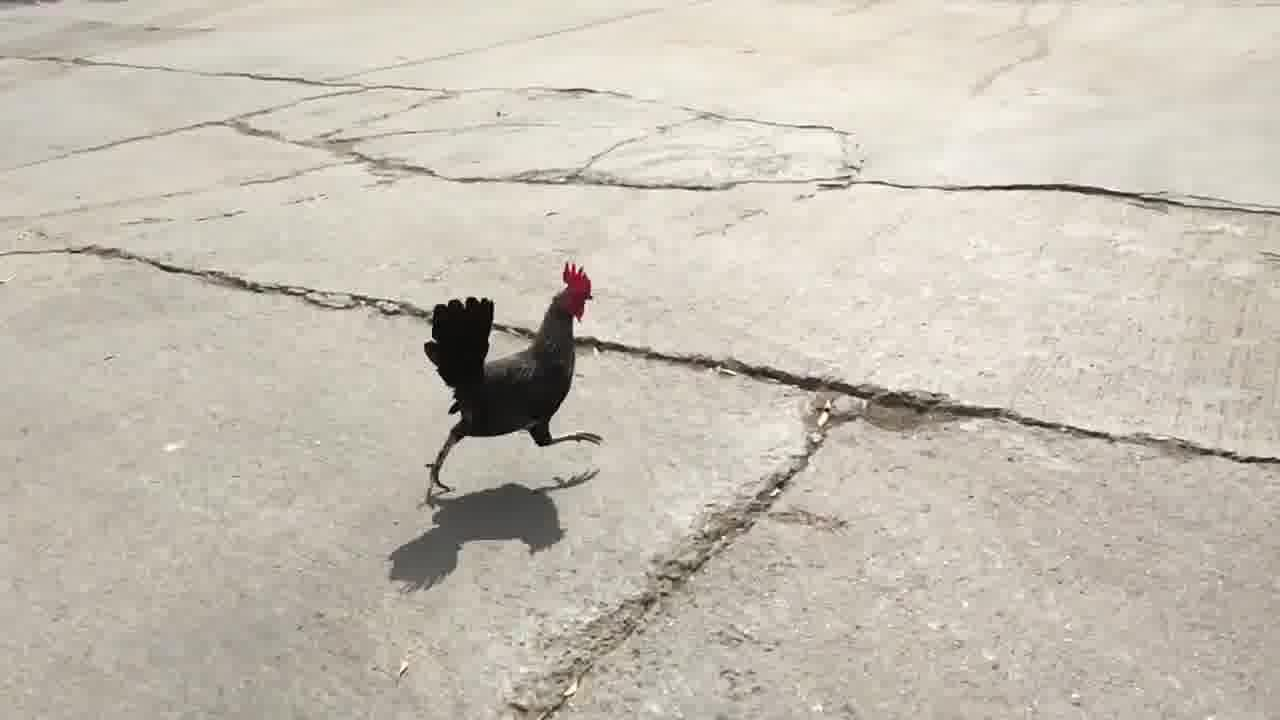Normal: (410, 254, 626, 496)
